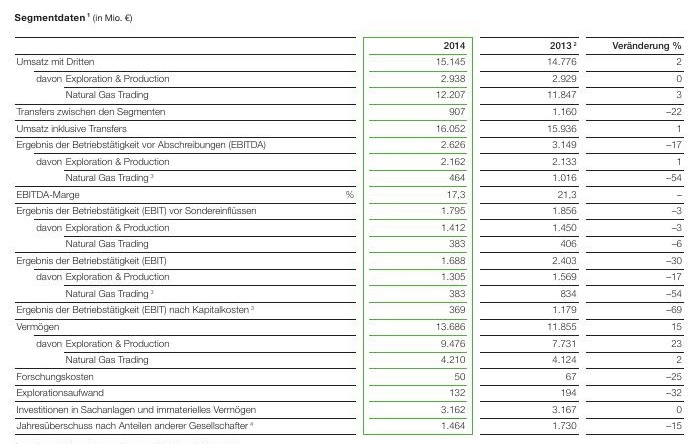table: (0, 0, 697, 444)
